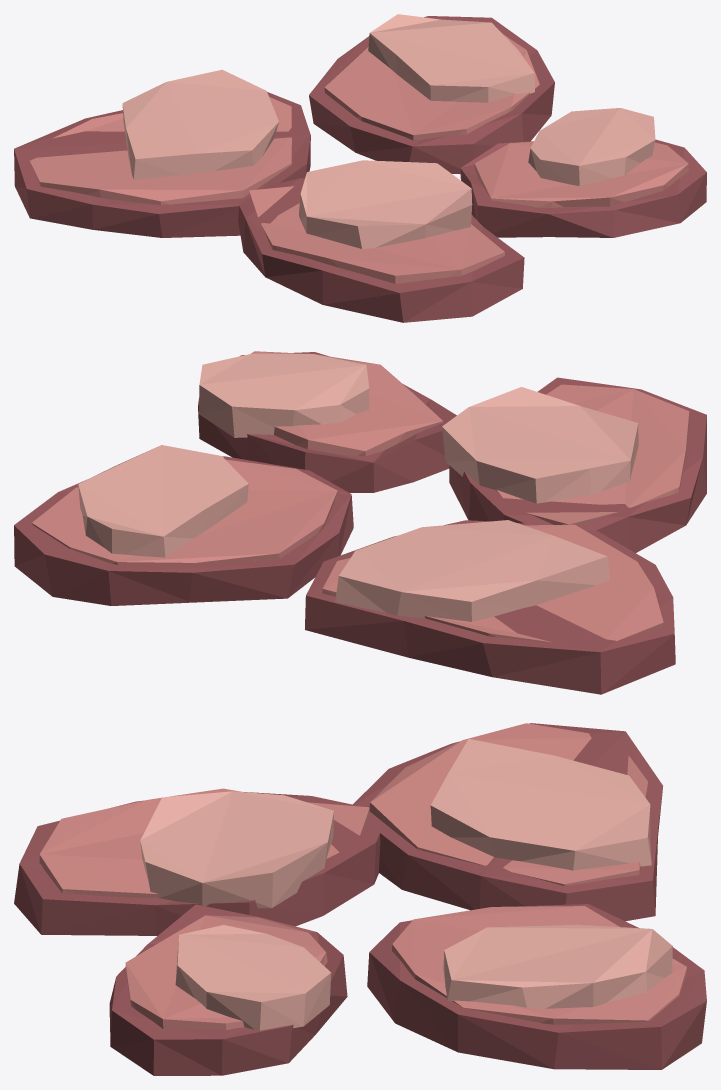
File: Tuna.fbx
3 renders of one model, top to bottom at view 1: azimuth 30°, elevation 25°; view 2: azimuth 150°, elevation 25°; view 3: azimuth 270°, elevation 25°, orthographic. The views are drawn at different scales.
Parts seen in each view (by area): view 1: Top_9E5A5E, Top_F0B4AA, Top_D88C88; view 2: Top_F0B4AA, Top_9E5A5E, Top_D88C88; view 3: Top_F0B4AA, Top_9E5A5E, Top_D88C88.
Part boxes in pixels (x1,y1,x2,y2): Top_9E5A5E: (14,16,706,322); Top_F0B4AA: (122,14,655,248); Top_D88C88: (29,34,688,283); Top_F0B4AA: (78,353,638,621); Top_9E5A5E: (14,352,706,694); Top_D88C88: (32,351,689,642); Top_F0B4AA: (140,739,672,1030); Top_9E5A5E: (14,723,706,1075); Top_D88C88: (39,723,686,1030).
Size of the model in its own units: 2 by 0.2149 by 1.83.
